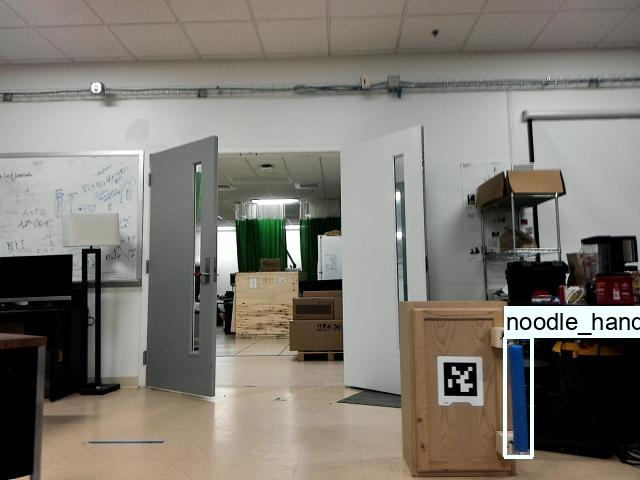noodle_handle: (505, 339, 529, 451)
